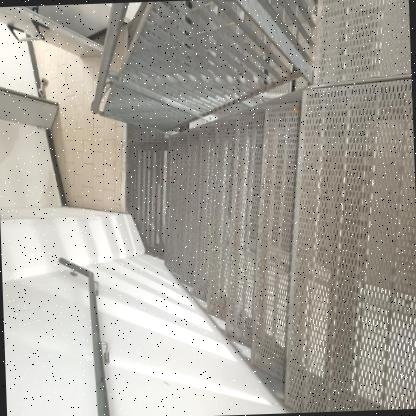stair: (92, 83, 416, 404)
